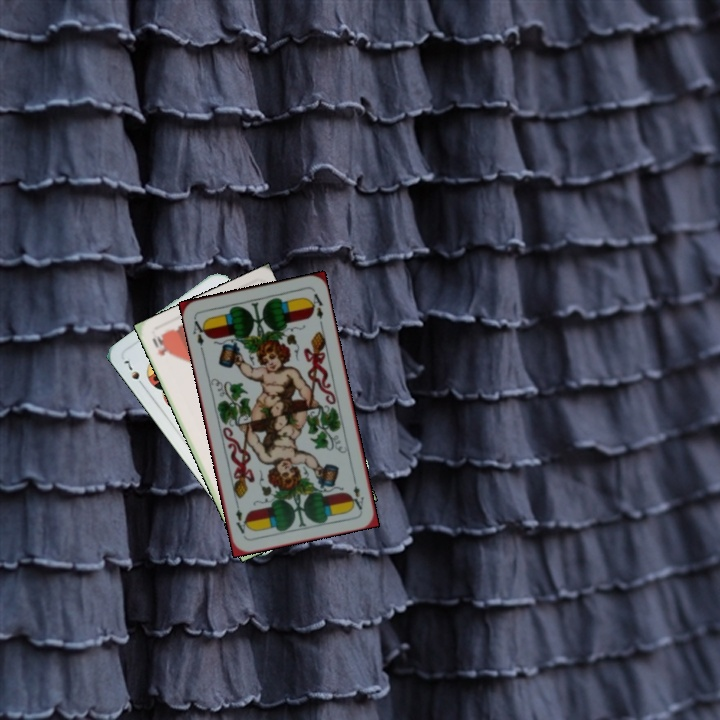EA: (189, 314, 210, 354), (347, 473, 366, 512)
HO: (148, 330, 173, 359)
S7: (119, 356, 148, 391)
